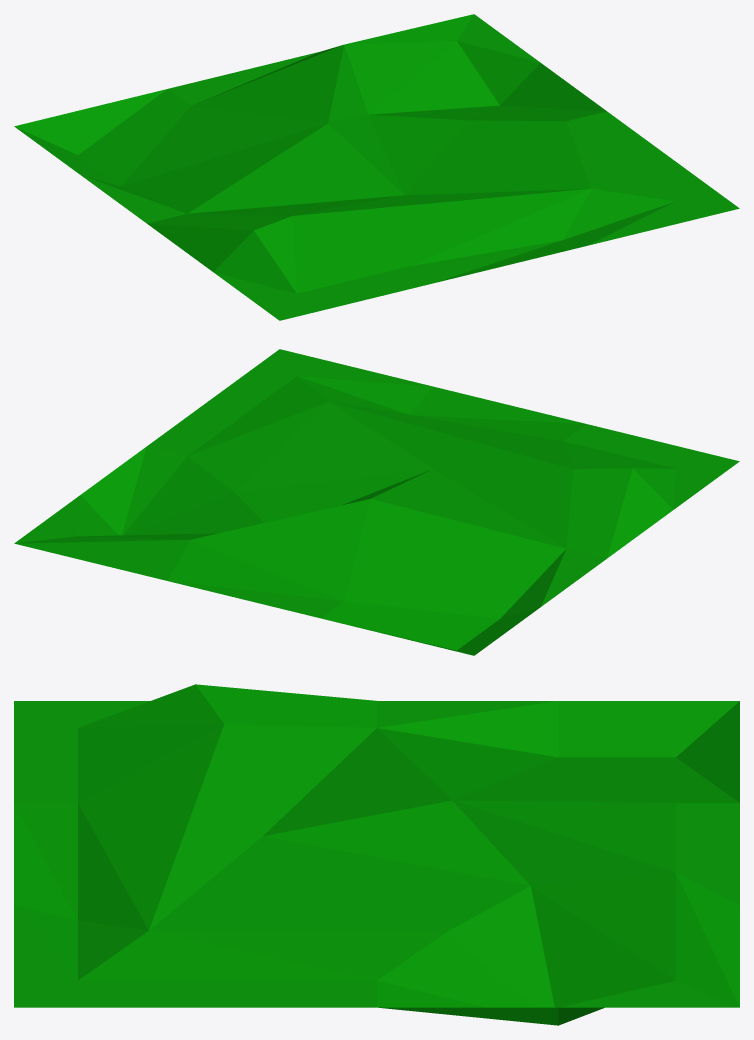
Rendered from Ground3.FBX.
3 renders of one model, top to bottom at view 1: azimuth 30°, elevation 25°; view 2: azimuth 150°, elevation 25°; view 3: azimuth 270°, elevation 25°, orthographic. The views are drawn at different scales.
Visible parts, largest first — view 1: Ground3; view 2: Ground3; view 3: Ground3.
Part boxes in pixels (x1,y1,x2,y2): Ground3: (14, 14, 739, 320); Ground3: (14, 349, 739, 655); Ground3: (14, 684, 739, 1025).
Bounding box in the file's own units: 157 × 21.21 × 157.
1 material, 1 textured.
